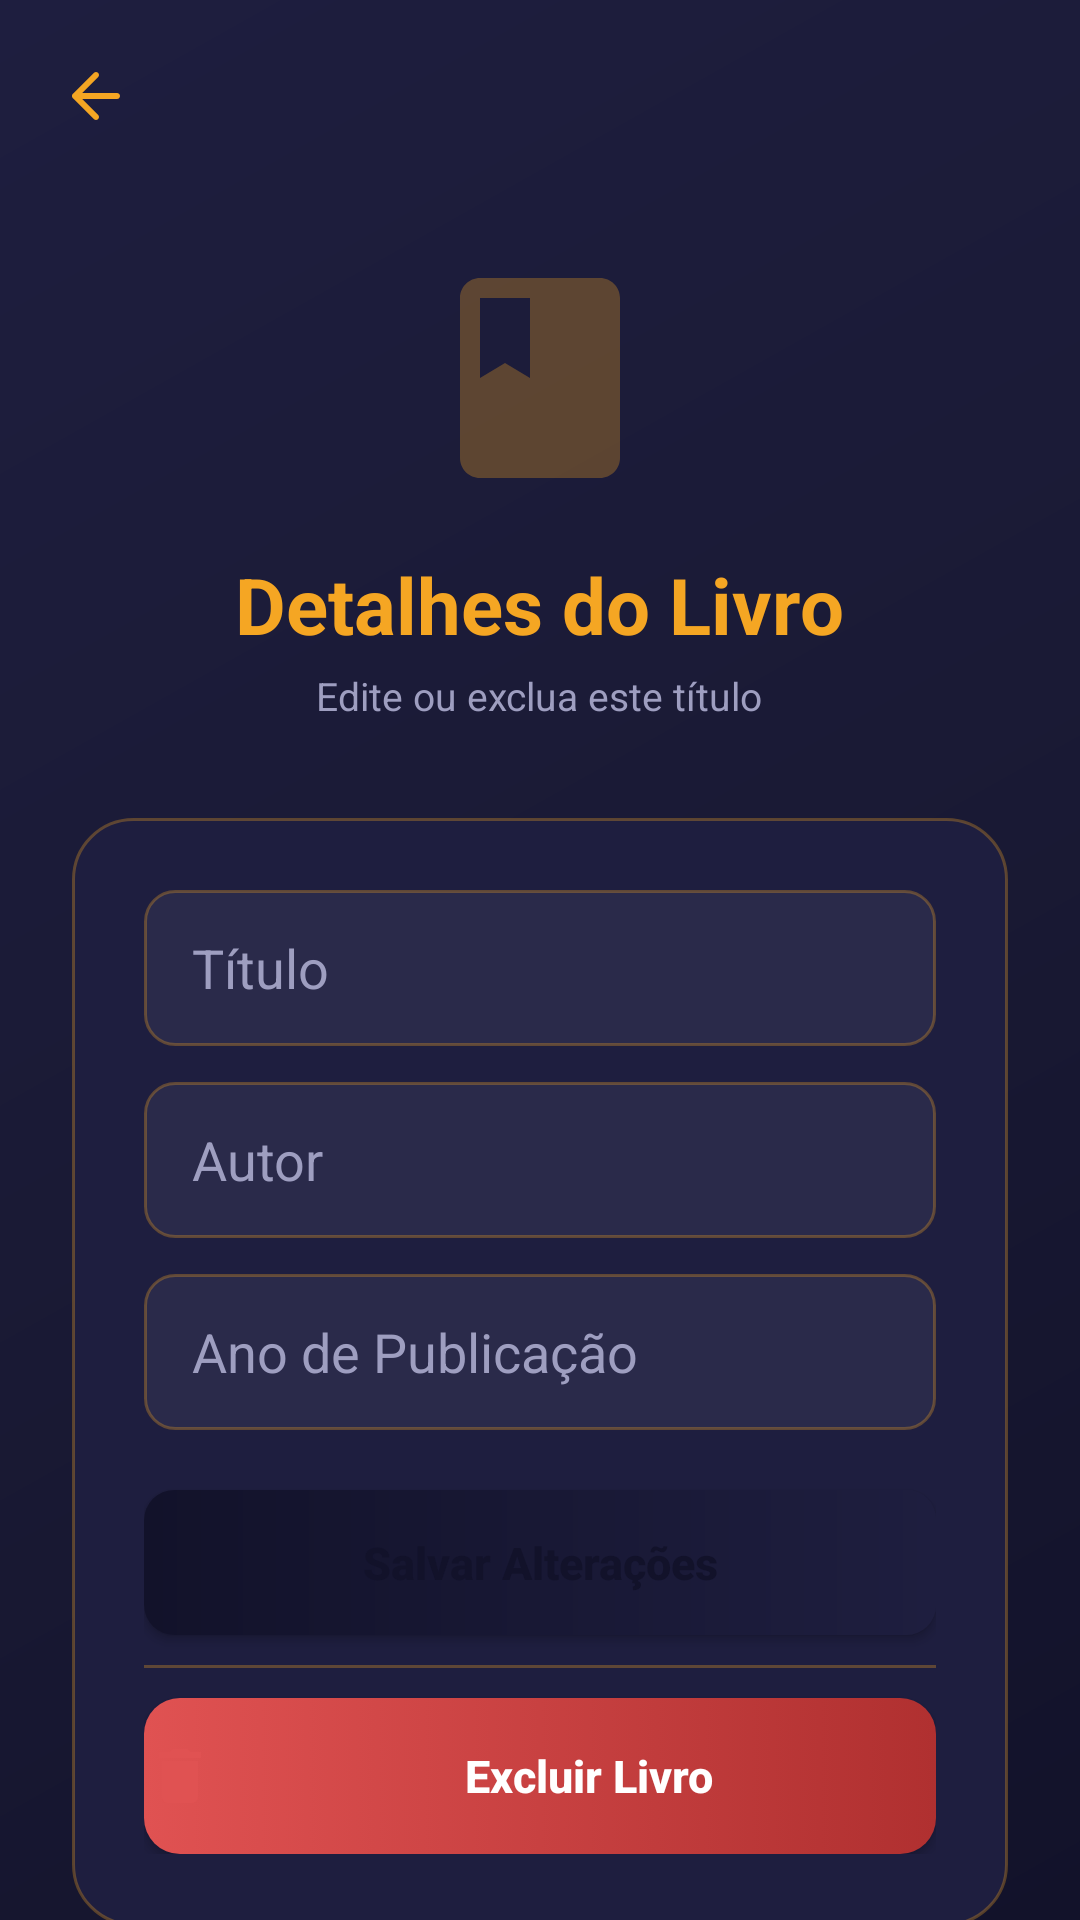

Point at icon controls on the screen. Image size 1080px×1920px, points as (x=x, y=y).
Voltar: (x=96, y=96)
